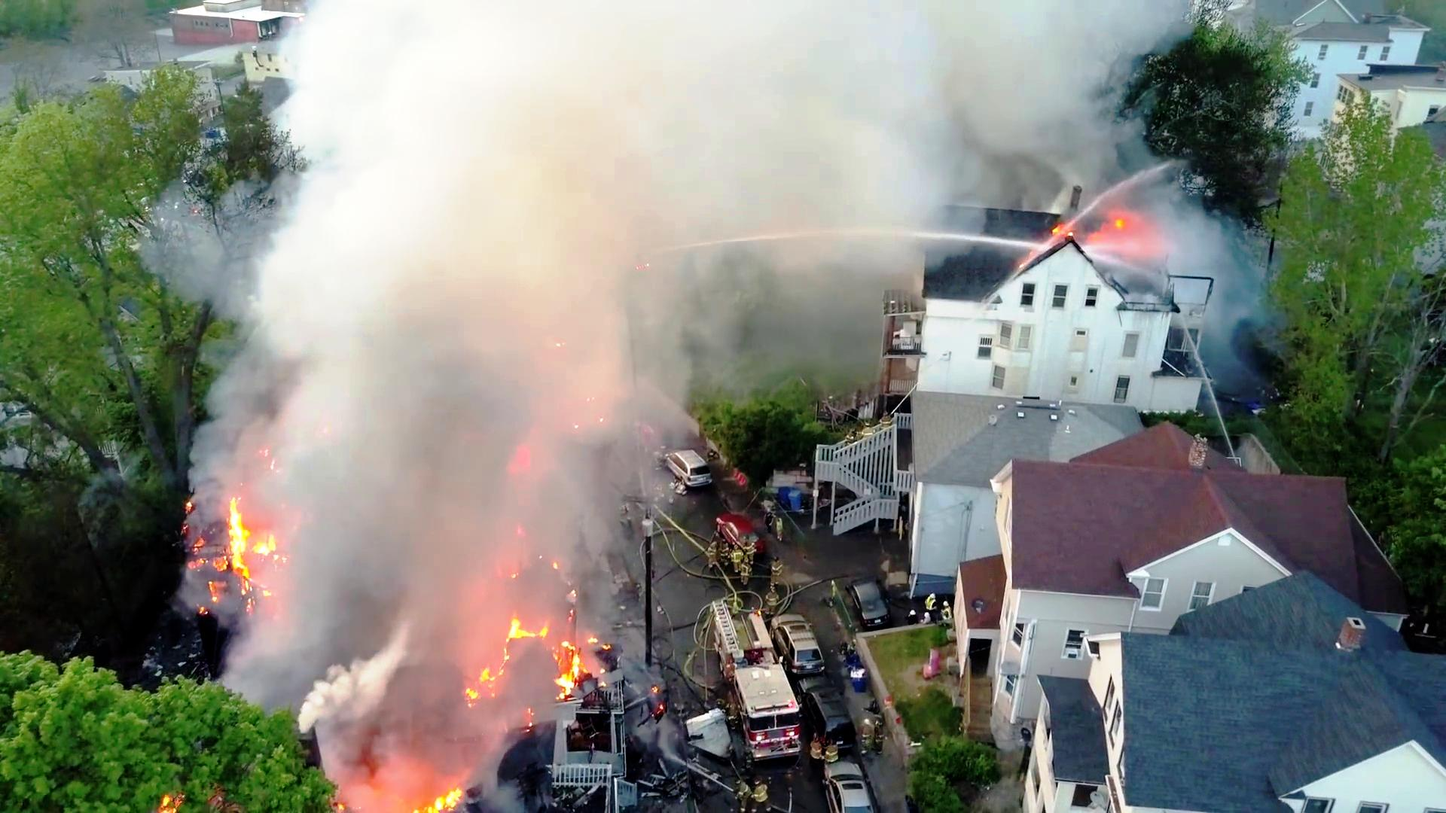fire: (471, 604, 591, 702), (212, 499, 264, 580), (319, 19, 319, 22)
